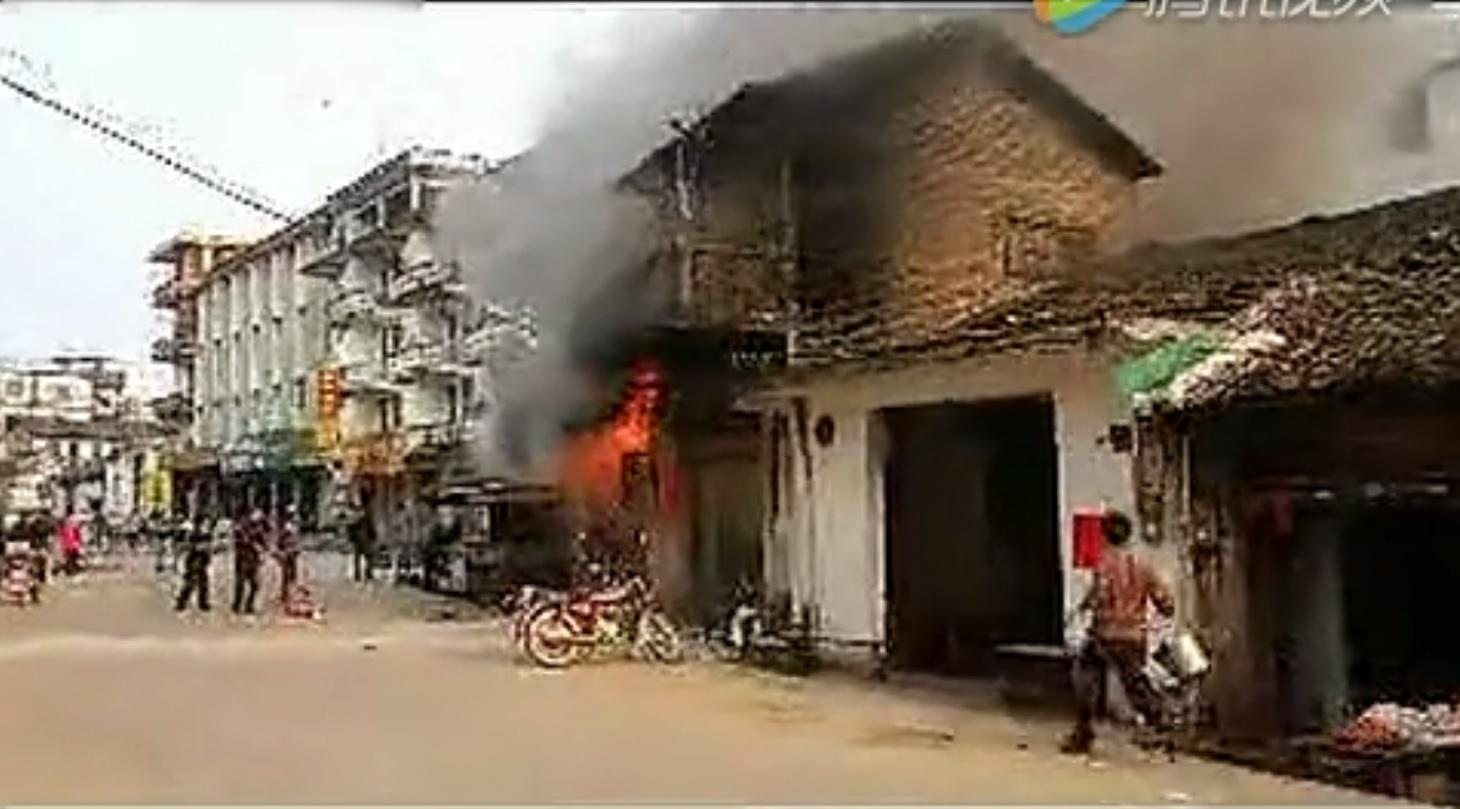fire: (570, 368, 667, 484)
